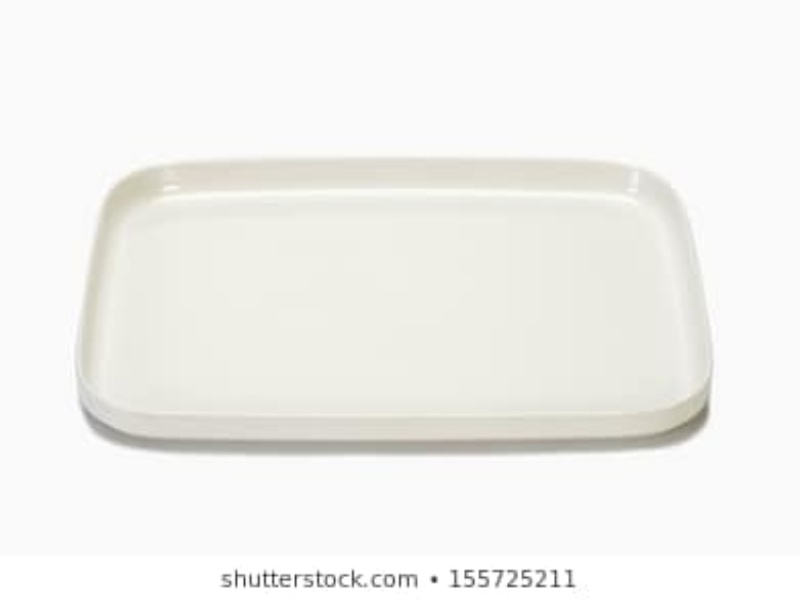plastic-tray: (73, 161, 718, 440)
